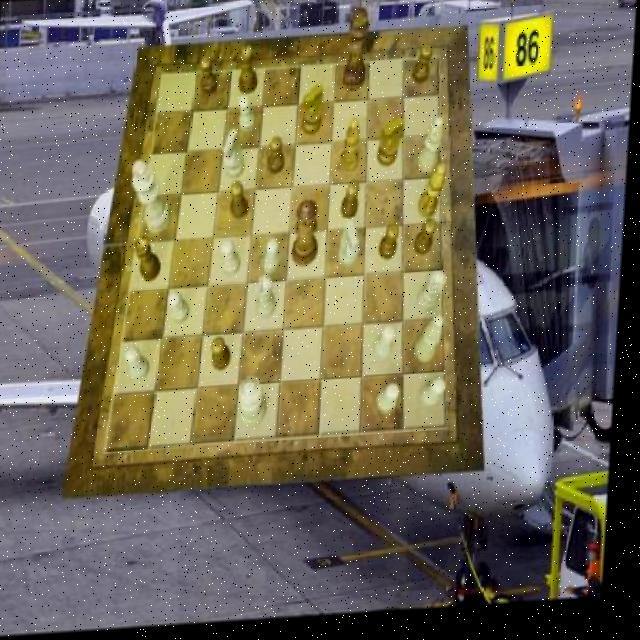bishop: (421, 168, 450, 224), (342, 122, 363, 181)
black-bishop: (344, 12, 371, 98)
black-king: (380, 121, 407, 172), (304, 87, 326, 139)
black-knight: (413, 51, 434, 90), (200, 59, 219, 100), (418, 224, 439, 261), (216, 339, 238, 374), (232, 185, 251, 224), (344, 185, 363, 224), (382, 228, 401, 265), (270, 140, 288, 178)
black-pawn: (295, 204, 324, 271)
black-queen: (136, 237, 165, 284), (238, 48, 260, 98)
black-rook: (420, 124, 446, 179), (420, 322, 449, 369)
white-bishop: (133, 160, 178, 236)
white-king: (223, 131, 249, 183), (342, 225, 365, 272)
white-knight: (130, 348, 156, 384), (170, 292, 195, 327), (377, 330, 400, 366), (223, 242, 245, 279), (426, 385, 452, 415), (239, 97, 259, 136), (383, 390, 407, 419), (266, 241, 285, 277)
white-pawn: (241, 378, 273, 433)
white-queen: (421, 275, 451, 319), (260, 279, 282, 324)
